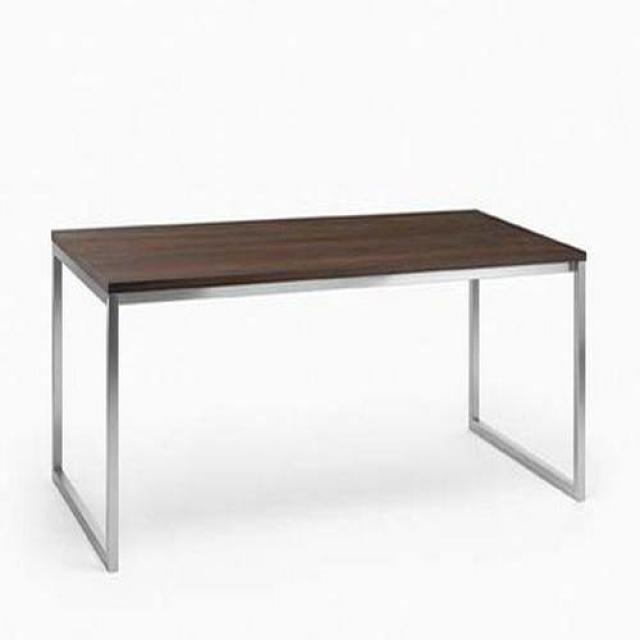table: (51, 211, 588, 575)
